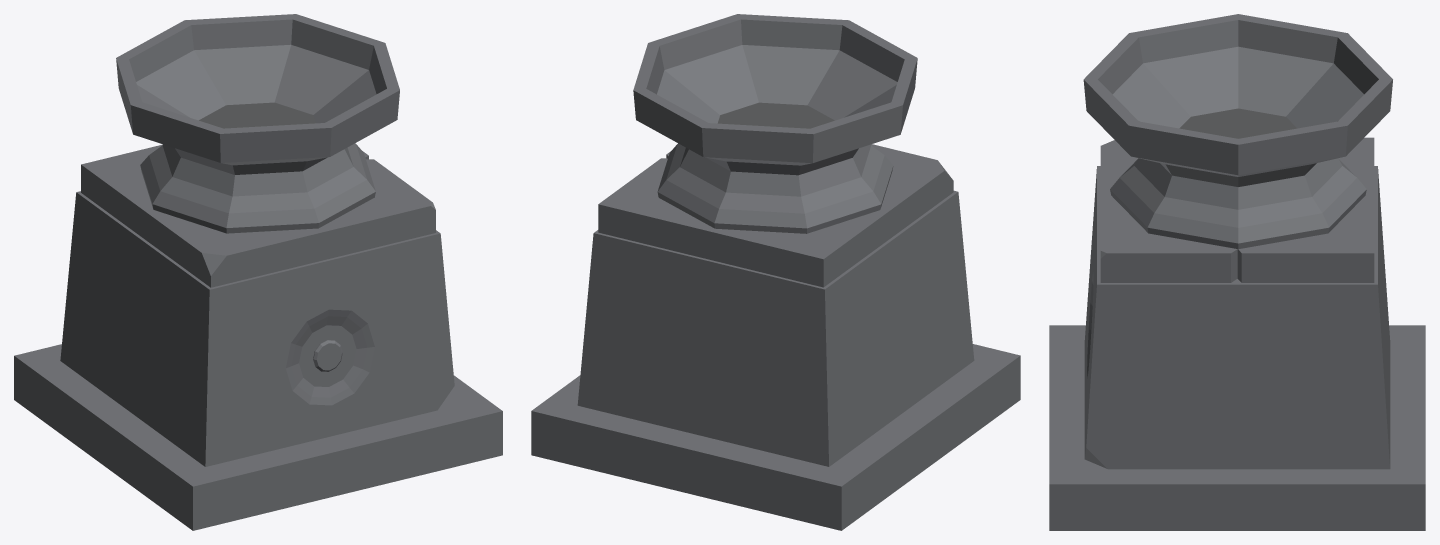
The model's file is StoneBrazier_1.fbx.
3 views of the same model, side by side, from view 1: azimuth 30°, elevation 25°; view 2: azimuth 150°, elevation 25°; view 3: azimuth 270°, elevation 25° (orthographic). The views are drawn at different scales.
Visible parts, largest first — view 1: StoneBrazier_1; view 2: StoneBrazier_1; view 3: StoneBrazier_1.
Boxes of the visible parts, bbox=[...] form: StoneBrazier_1: bbox=[14, 14, 502, 530]; StoneBrazier_1: bbox=[531, 14, 1020, 530]; StoneBrazier_1: bbox=[1049, 14, 1425, 530].
Bounding box in the file's own units: 68.51 × 74.67 × 68.51.
